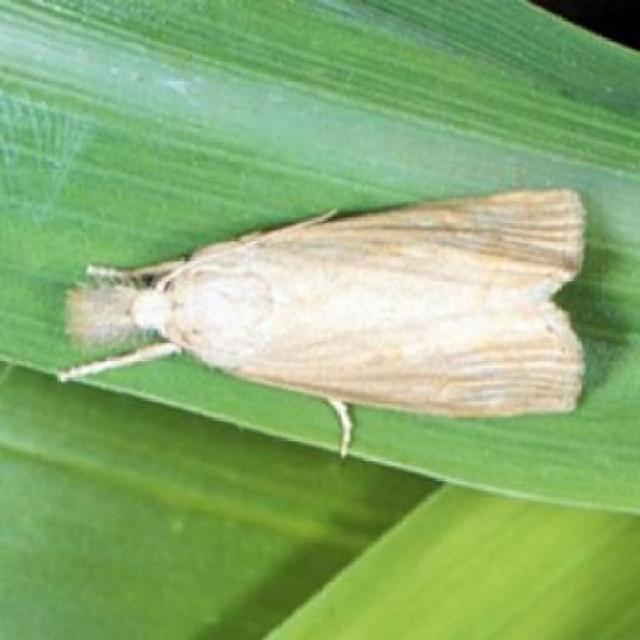stem-borer: (55, 186, 591, 454)
